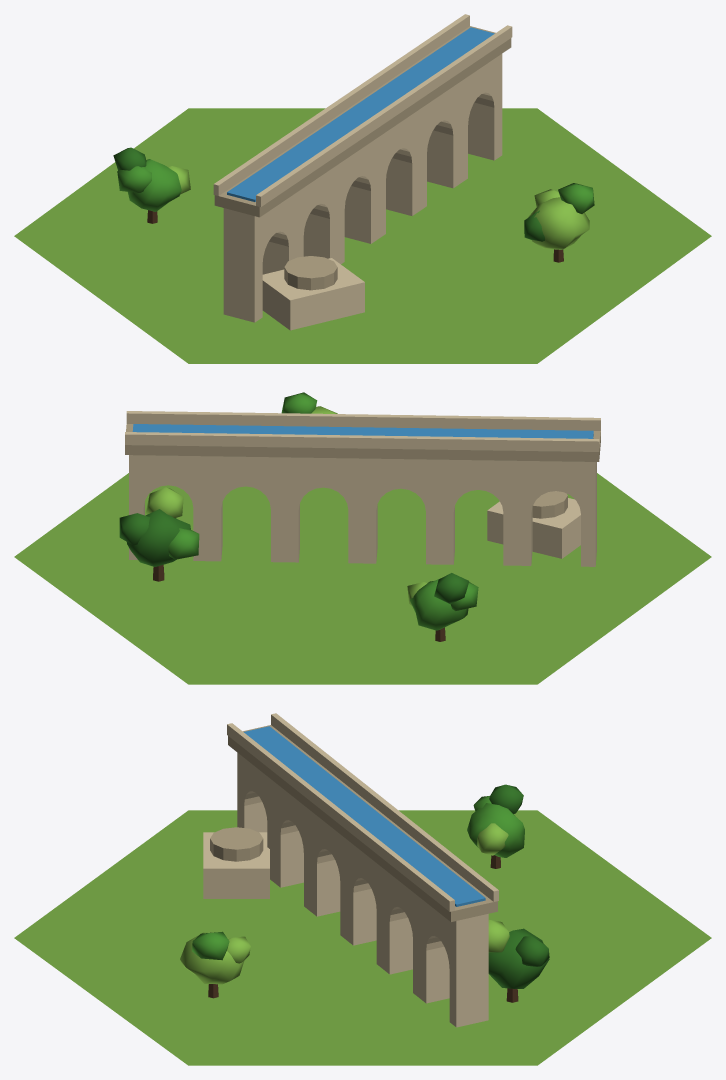
The model's file is district_aqueduct_1.fbx.
3 views of the same model, one above another, from view 1: azimuth 30°, elevation 25°; view 2: azimuth 150°, elevation 25°; view 3: azimuth 270°, elevation 25° (orthographic).
Visible parts, largest first — view 1: district_aqueduct_1; view 2: district_aqueduct_1; view 3: district_aqueduct_1.
Part boxes in pixels (x1=…): district_aqueduct_1: x1=14, y1=14, x2=711, y2=363; district_aqueduct_1: x1=14, y1=392, x2=711, y2=684; district_aqueduct_1: x1=14, y1=713, x2=711, y2=1065.
Bounding box in the file's own units: 182 × 43.4 × 210.
